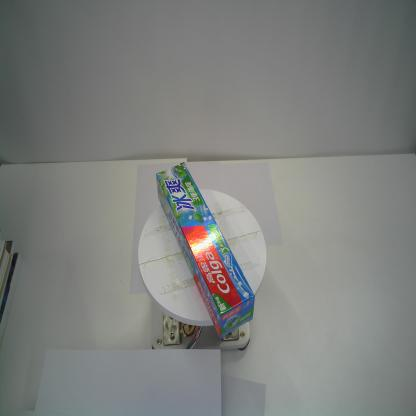Personal Hygiene: (156, 162, 255, 340)
